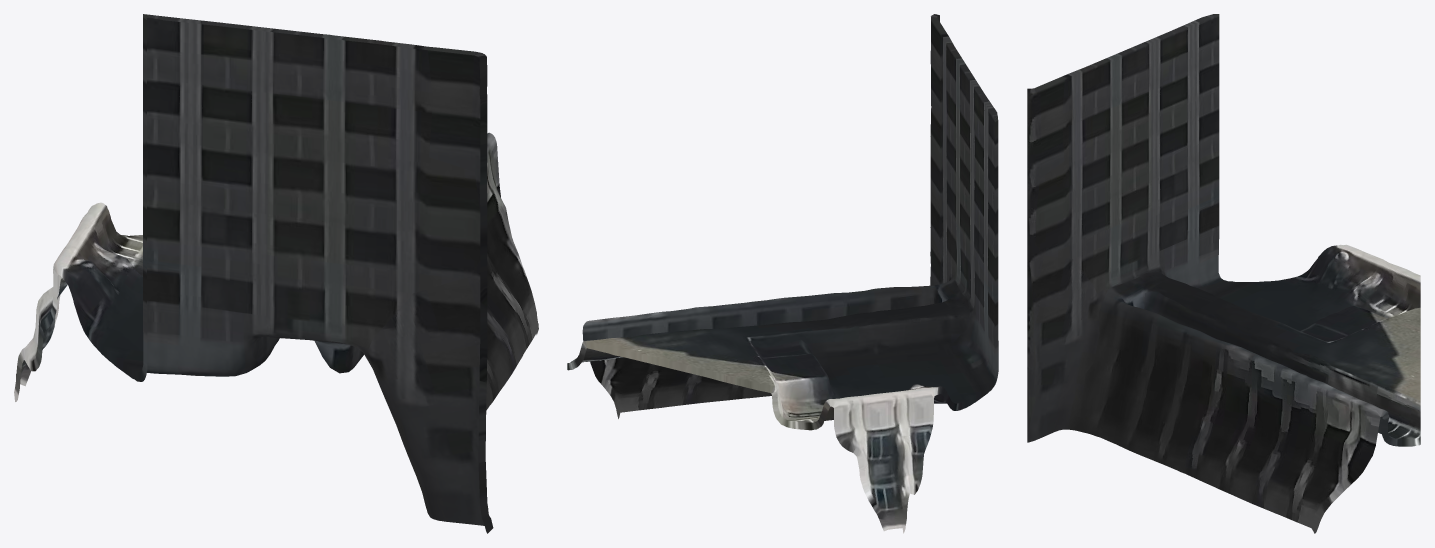
Rendered from z20-167776-405237-h1-yup-uvflip-v3-world.glb.
The picture shows the model from 3 angles, left to right: view 1: azimuth 30°, elevation 25°; view 2: azimuth 150°, elevation 25°; view 3: azimuth 270°, elevation 25°; orthographic projection. The views are drawn at different scales.
Bounding box in the file's own units: 30.16 × 30.28 × 30.32.
Materials: 1 (1 with a texture image).
